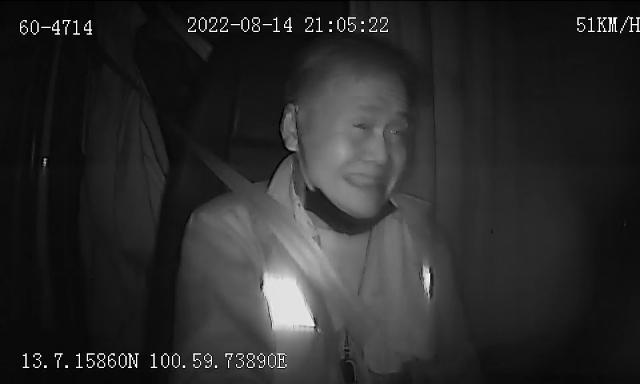Seatbelt: (198, 148, 380, 354)
